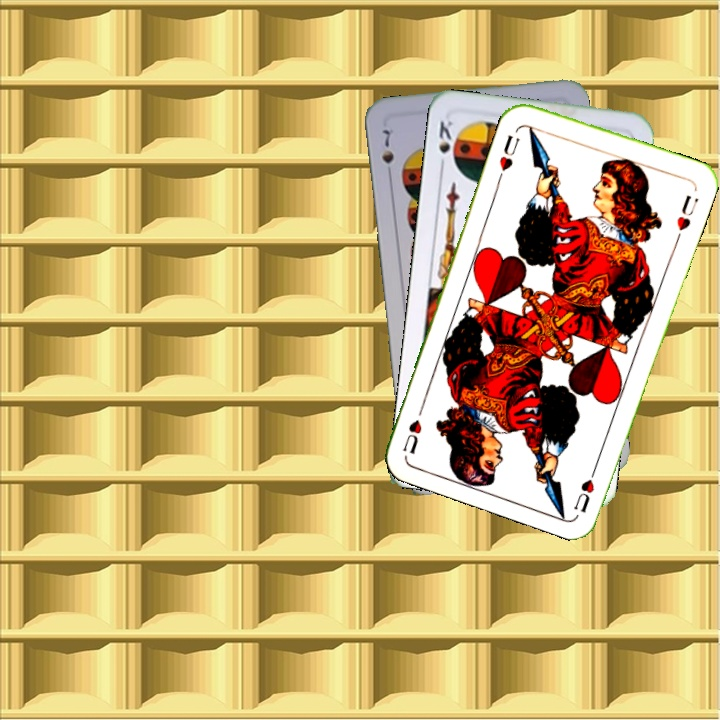HU: (570, 458, 601, 515), (495, 131, 523, 174)
S7: (378, 125, 397, 181)
SK: (434, 117, 457, 173)
